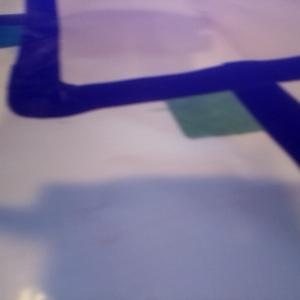bottom_left: (165, 75, 276, 138), (1, 14, 58, 48)
